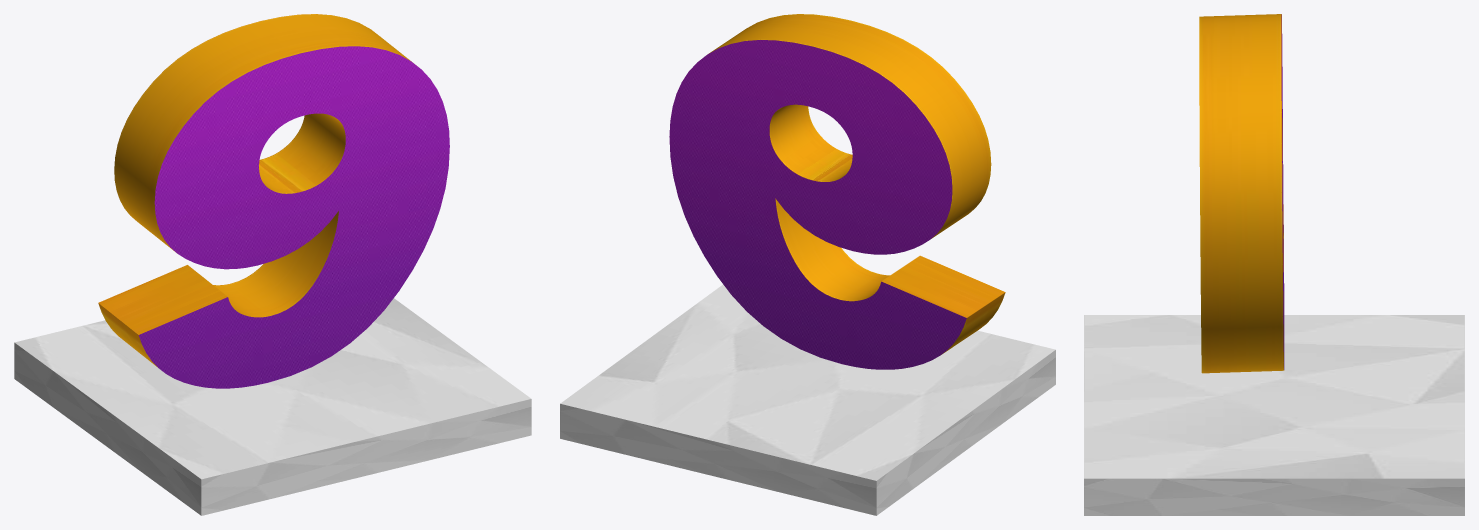
File: NUEVE.DAE
The picture shows the model from 3 angles, left to right: view 1: azimuth 30°, elevation 25°; view 2: azimuth 150°, elevation 25°; view 3: azimuth 270°, elevation 25°; orthographic projection. The views are drawn at different scales.
Visible parts, largest first — view 1: Text001, Box001; view 2: Text001, Box001; view 3: Box001, Text001.
Boxes of the visible parts, left/top/right/bottom form: Text001: left=98, top=14, right=449, bottom=388; Box001: left=14, top=298, right=531, bottom=515; Text001: left=669, top=14, right=1005, bottom=369; Box001: left=560, top=284, right=1055, bottom=515; Box001: left=1084, top=315, right=1464, bottom=515; Text001: left=1199, top=14, right=1284, bottom=373.
Size of the model in its own units: 141 by 137 by 156.
Materials: 3 (3 with a texture image).
